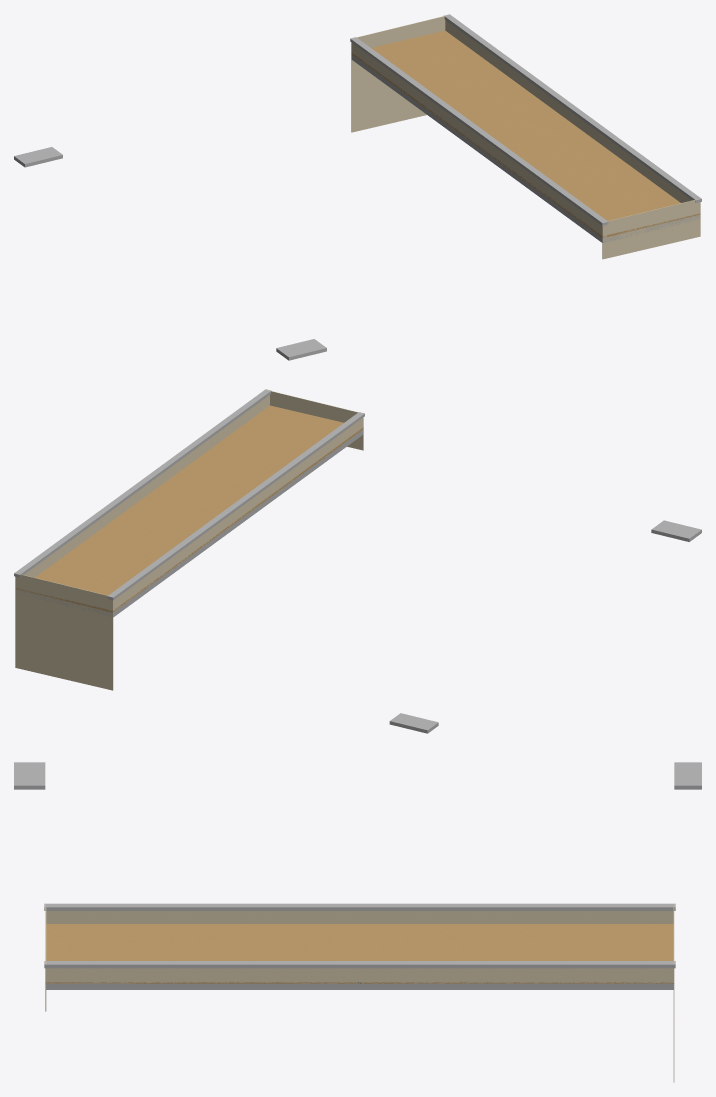
Rendered from roof-bundle-covered-souk.glb.
The picture shows the model from 3 angles, top to bottom: view 1: azimuth 30°, elevation 25°; view 2: azimuth 150°, elevation 25°; view 3: azimuth 270°, elevation 25°; orthographic projection. The views are drawn at different scales.
Visible parts, largest first — view 1: bz06_faded_ochre-receive, bz06_pale_lime-cast, ph_bz04_stone_trim_sandstone-cast; view 2: bz06_faded_ochre-receive, bz06_pale_lime-cast, ph_bz04_stone_trim_sandstone-cast; view 3: bz06_faded_ochre-receive, bz06_pale_lime-cast, ph_bz04_stone_trim_sandstone-cast.
Part boxes in pixels (x1,y1,x2,y2): bz06_faded_ochre-receive: (351,30,700,237); bz06_pale_lime-cast: (351,15,700,259); ph_bz04_stone_trim_sandstone-cast: (14,14,701,360); bz06_faded_ochre-receive: (15,405,363,612); bz06_pale_lime-cast: (15,390,363,690); ph_bz04_stone_trim_sandstone-cast: (14,389,701,733); bz06_faded_ochre-receive: (45,924,674,983); bz06_pale_lime-cast: (45,904,674,1082); ph_bz04_stone_trim_sandstone-cast: (14,762,701,989).
Size of the model in its own units: 15.63 by 3.33 by 17.5.
4 materials, 3 textured.
